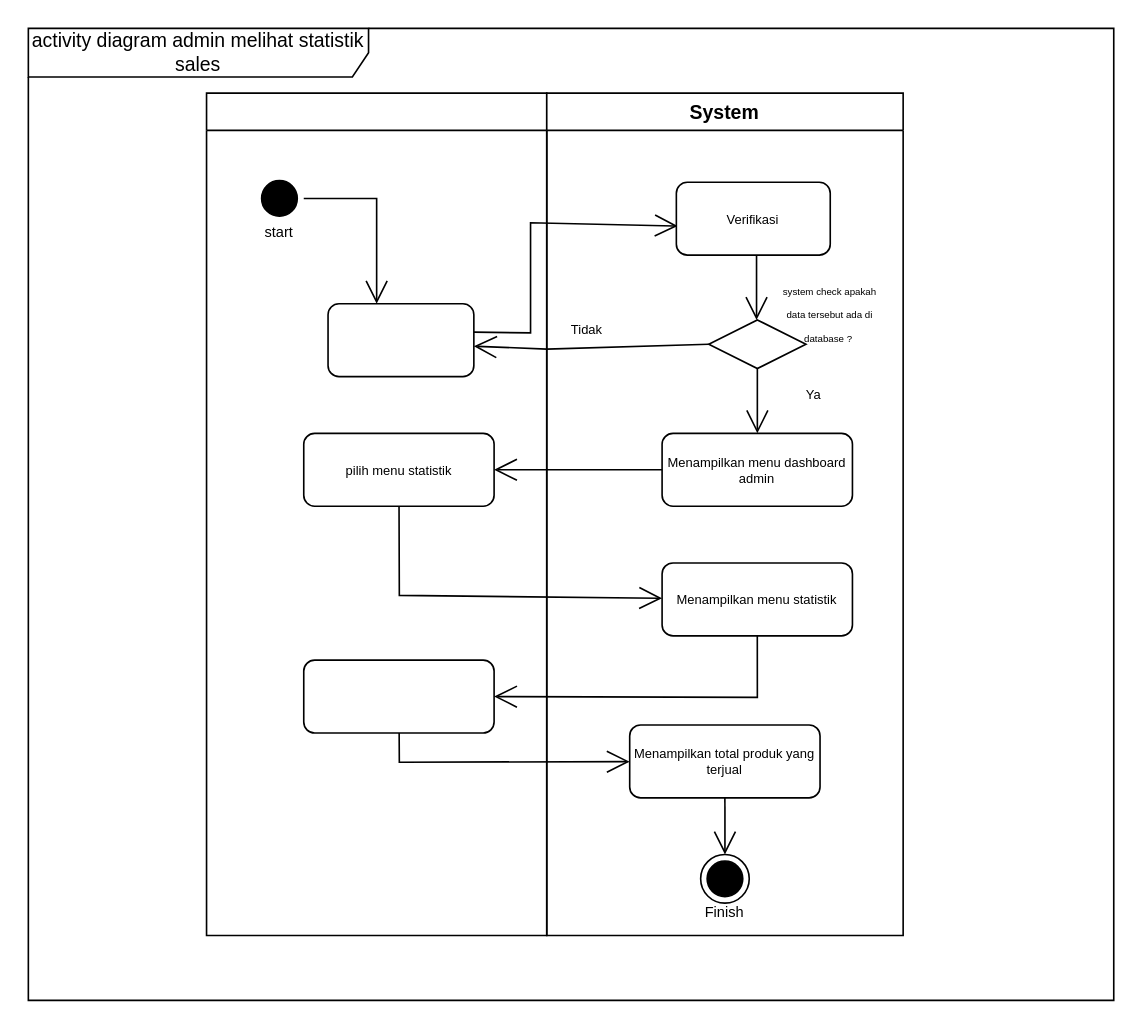
Some shapes in this 1142 by 1029 pixel diagram are drawn without their labels. Here are the shapes that lost their labels. From the top down, the box of each, then its label:
(326, 302, 474, 377): Login
(205, 92, 547, 936): Admin
(302, 659, 494, 733): pilih statistik jumlah produk yang terjual
